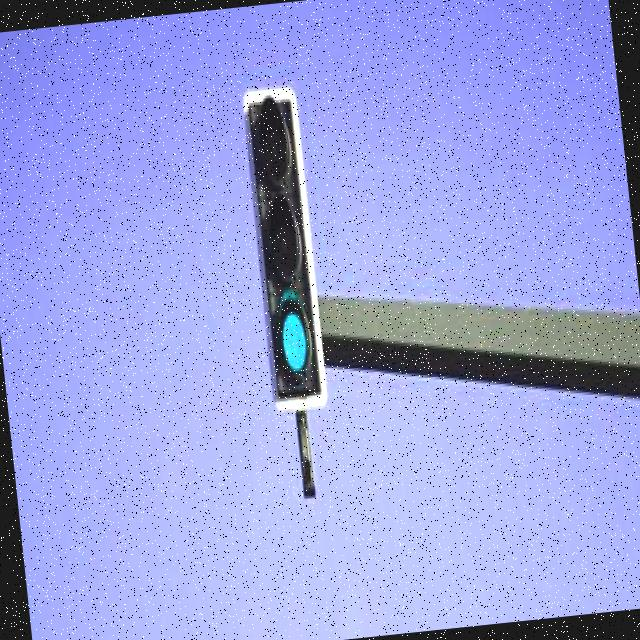Zielone swiatlo: (247, 86, 324, 402)
